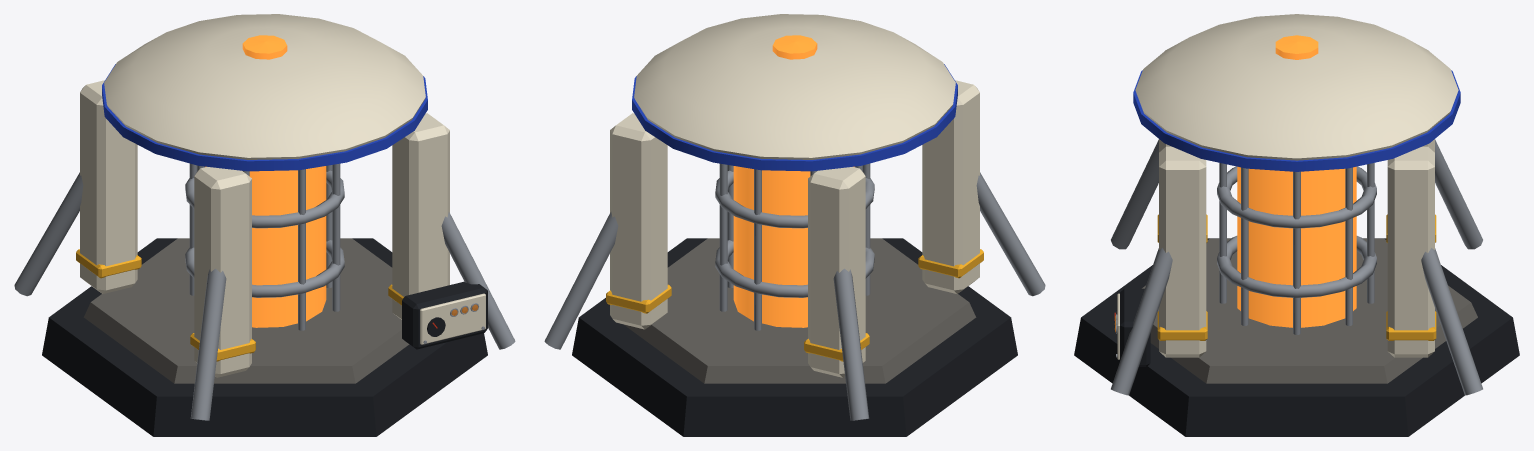
Rendered from reactor.glb.
The picture shows the model from 3 angles, left to right: view 1: azimuth 30°, elevation 25°; view 2: azimuth 150°, elevation 25°; view 3: azimuth 270°, elevation 25°; orthographic projection.
Visible parts, largest first — view 1: reactor_mesh; view 2: reactor_mesh; view 3: reactor_mesh.
Part boxes in pixels (x1,y1,x2,y2): reactor_mesh: (14,14,515,436); reactor_mesh: (544,14,1045,436); reactor_mesh: (1074,14,1519,436).
Size of the model in its own units: 2.77 by 2.48 by 3.2.
